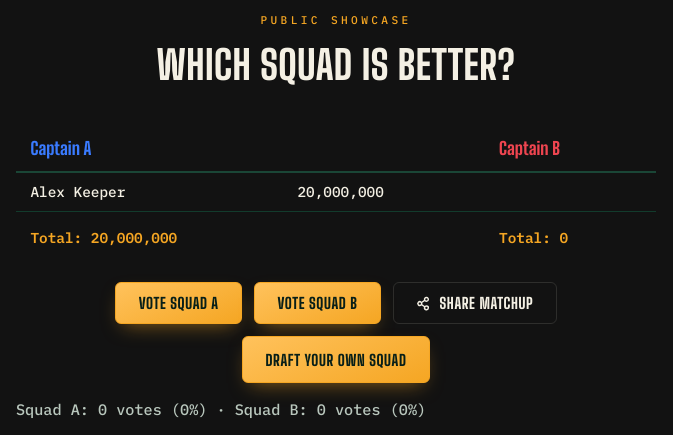
Test: PublicSquadPage › casts a vote, disables further voting, and shows updated tallies
Click the button "Vote Squad A": (179, 303) [115, 282, 242, 324]
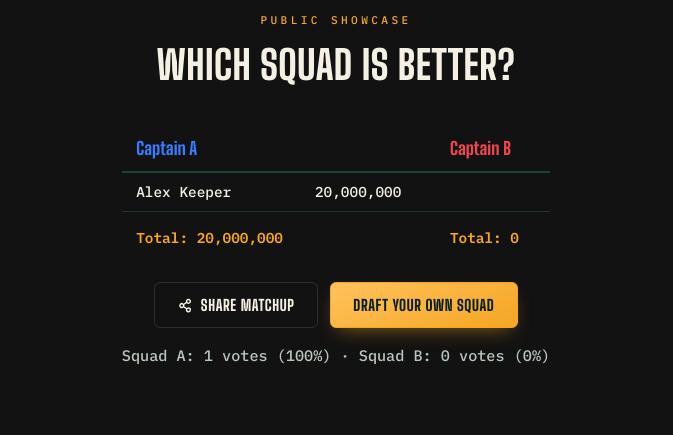
Expected: the button "Vote Squad A" is gone
